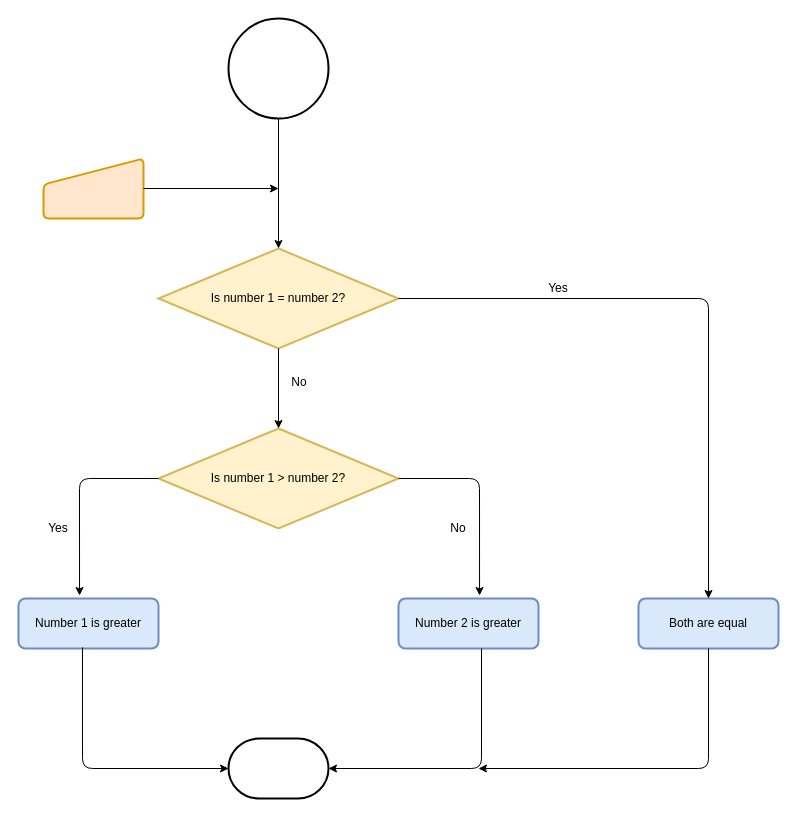
Image size: 796x816. Some labels were removed from this diagram. Here are the shapes that lost their labels. From the top down, the centre of each, then its label:
pixel 278 68: Start
pixel 93 188: Data Input (Numbers)
pixel 278 768: End
